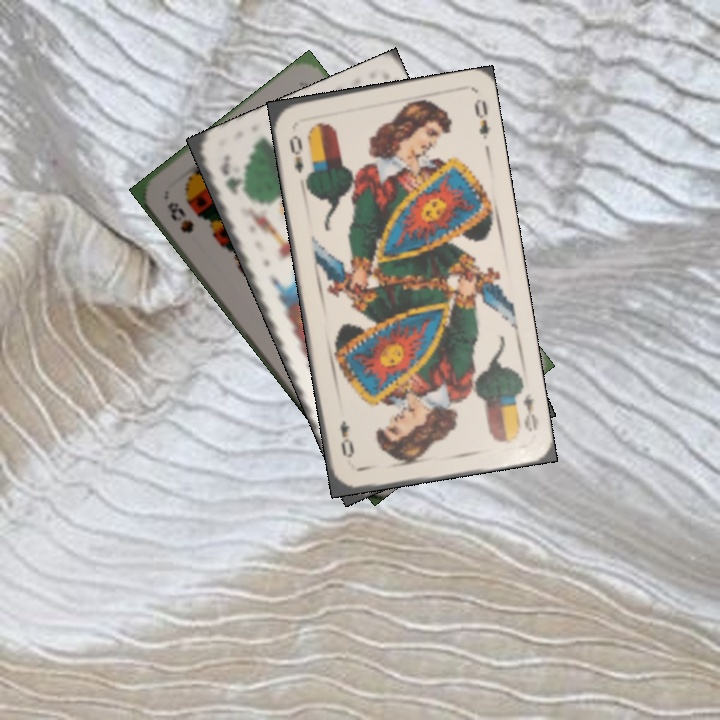EO: (518, 390, 541, 434), (285, 131, 306, 175)
GK: (219, 159, 242, 198)
S8: (162, 197, 197, 237)
